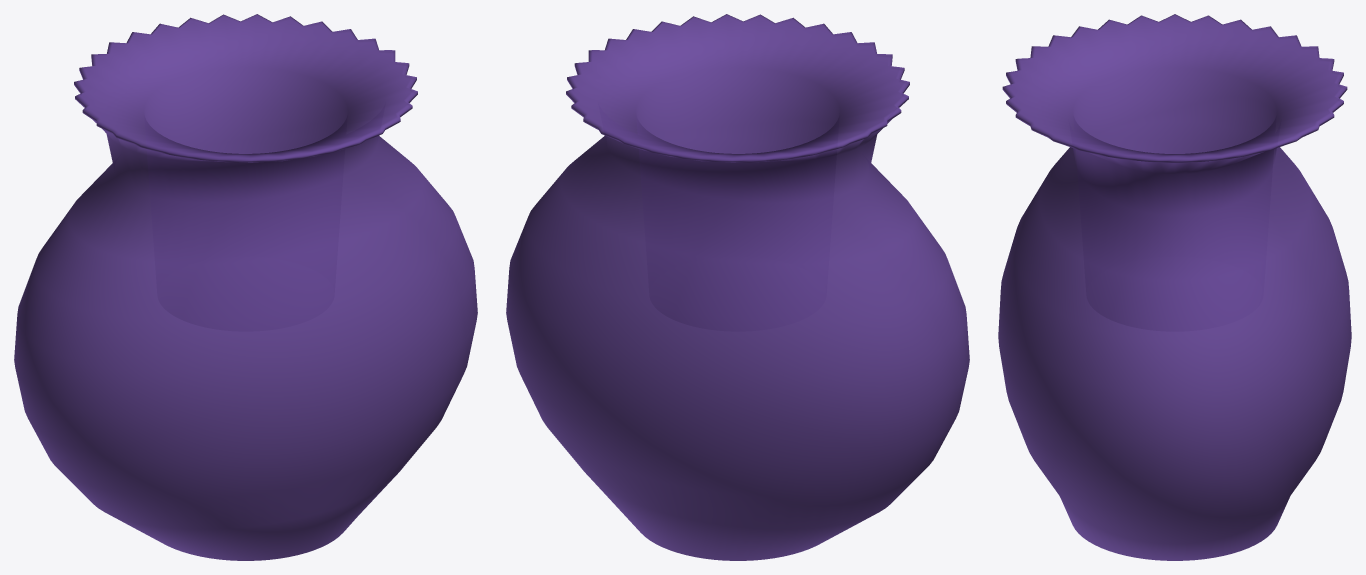
The model's file is Vase.2.fbx.
The picture shows the model from 3 angles, left to right: view 1: azimuth 30°, elevation 25°; view 2: azimuth 150°, elevation 25°; view 3: azimuth 270°, elevation 25°; orthographic projection.
Visible parts, largest first — view 1: Cylinder; view 2: Cylinder; view 3: Cylinder.
Boxes of the visible parts, x1,y1,x2,y2 form: Cylinder: (14, 14, 477, 560); Cylinder: (506, 14, 969, 560); Cylinder: (998, 14, 1351, 560).
Size of the model in its own units: 221 by 212 by 158.
